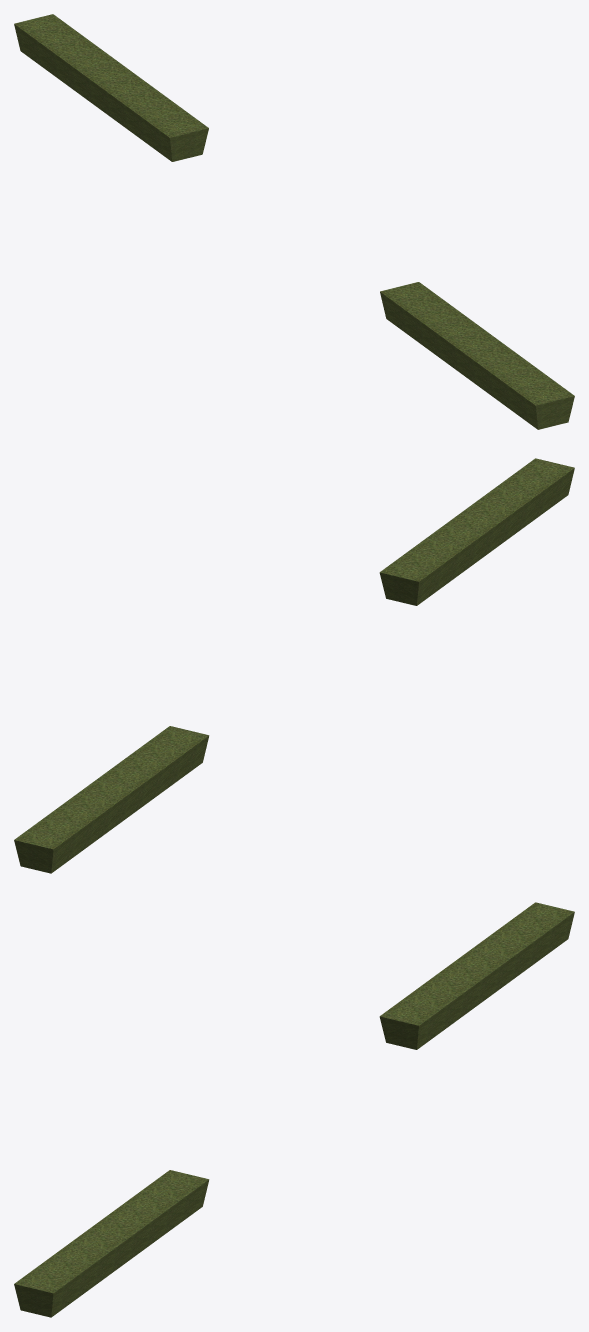
File: miragehedge14.obj
The picture shows the model from 3 angles, top to bottom: view 1: azimuth 30°, elevation 25°; view 2: azimuth 150°, elevation 25°; view 3: azimuth 330°, elevation 25°; orthographic projection.
Visible parts, largest first — view 1: miragehedge14; view 2: miragehedge14; view 3: miragehedge14.
Boxes of the visible parts, x1,y1,x2,y2 form: miragehedge14: [14, 14, 574, 429]; miragehedge14: [14, 458, 574, 873]; miragehedge14: [14, 902, 574, 1317].
Size of the model in its own units: 2.1 by 1.37 by 48.23.
Materials: 1 (1 with a texture image).
